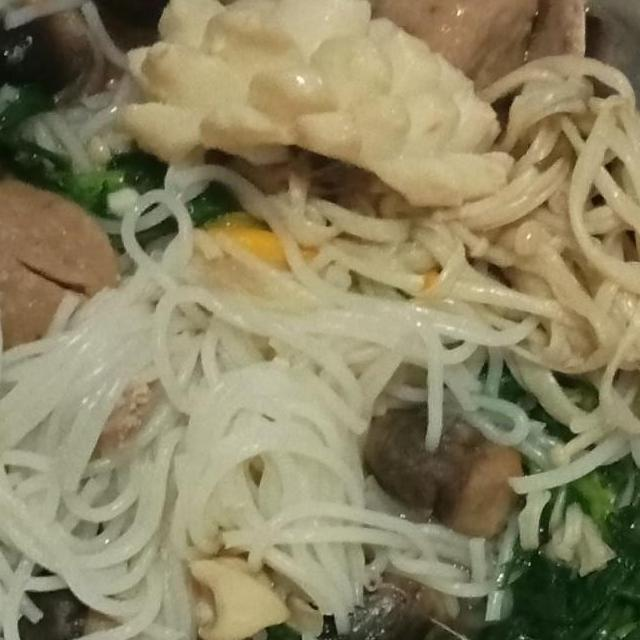bun: (0, 256, 385, 640), (359, 280, 564, 468), (0, 0, 146, 181)
muc: (111, 0, 521, 216)
